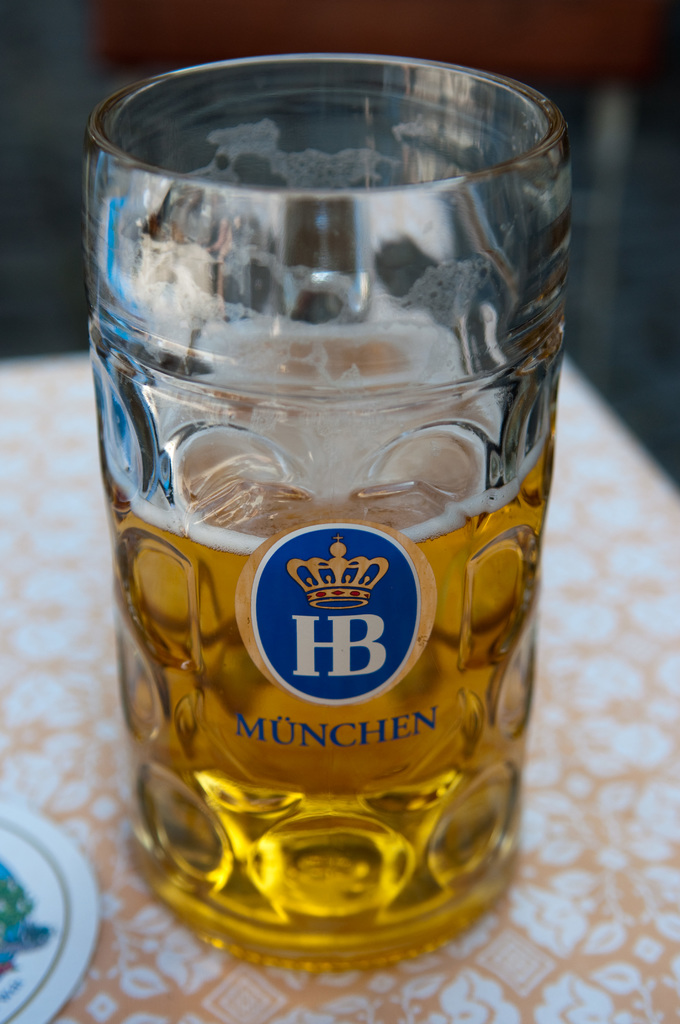Beer: (81, 46, 559, 972)
